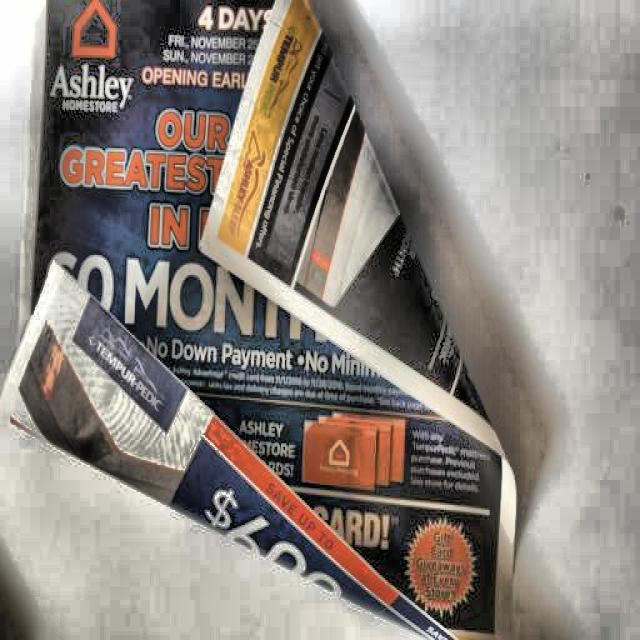paper: (5, 6, 518, 640)
